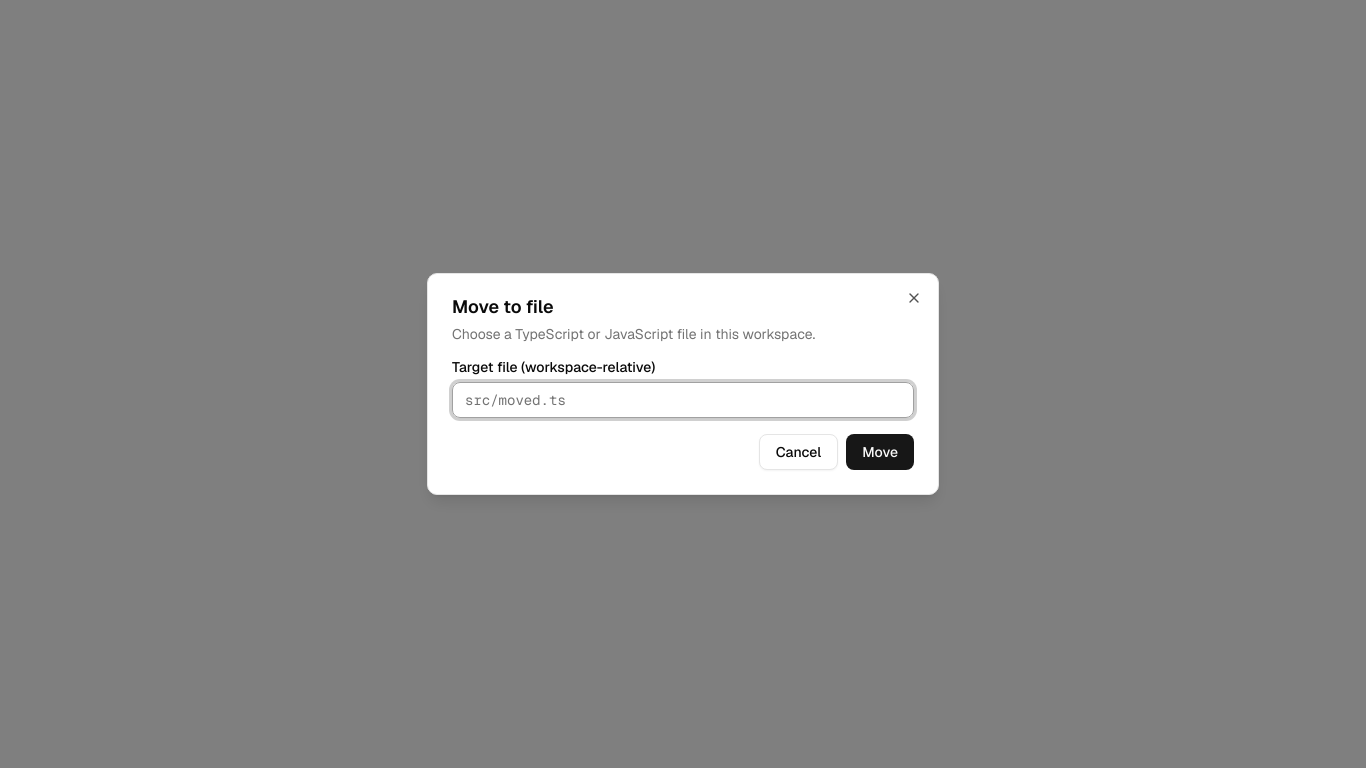
Test case: Move to file dialog › rejects target ../other.ts with an accessible validation message
The width and height of the screenshot is (1366, 768).
Type "../other.ts" into the field labelled "Target file (workspace-relative)" at (683,400), box left=452, top=382, right=914, bottom=418
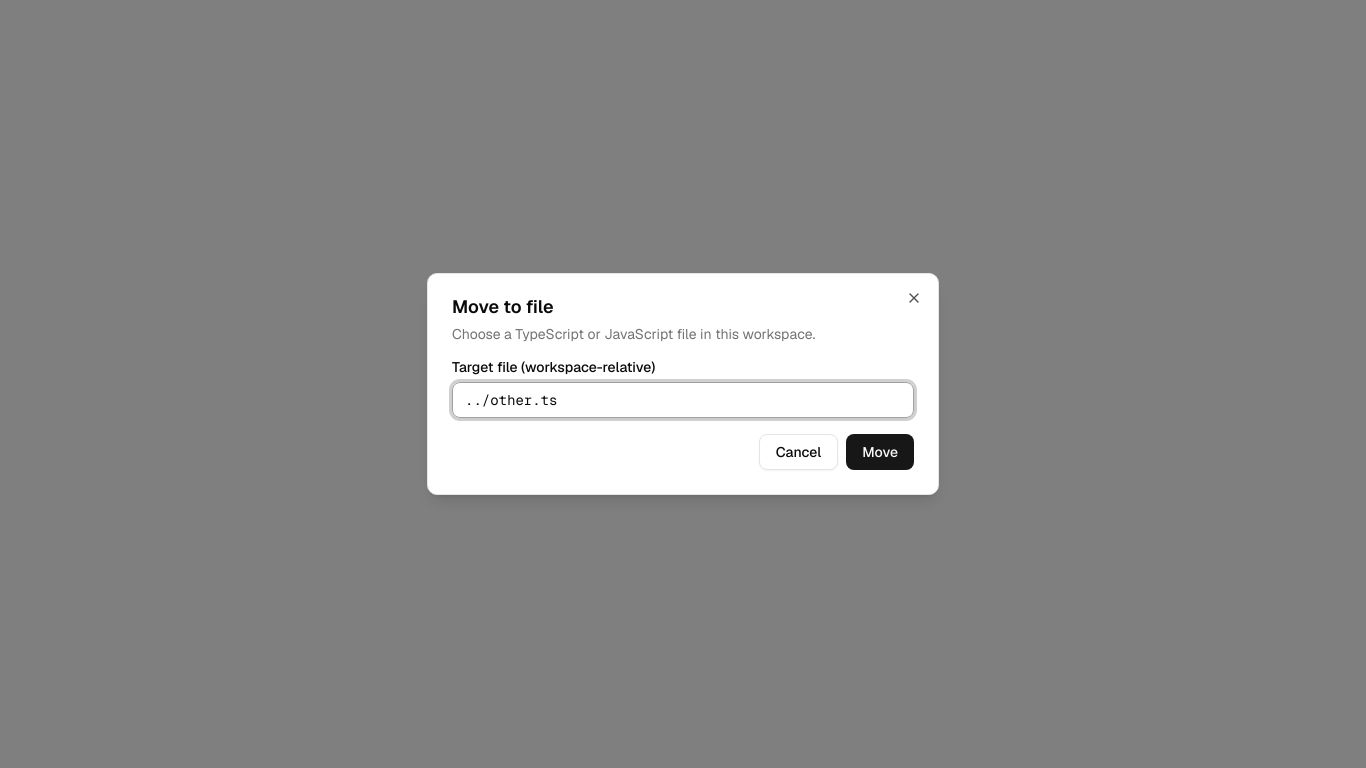
Click the button "Move" at (880,452), box left=846, top=434, right=914, bottom=470
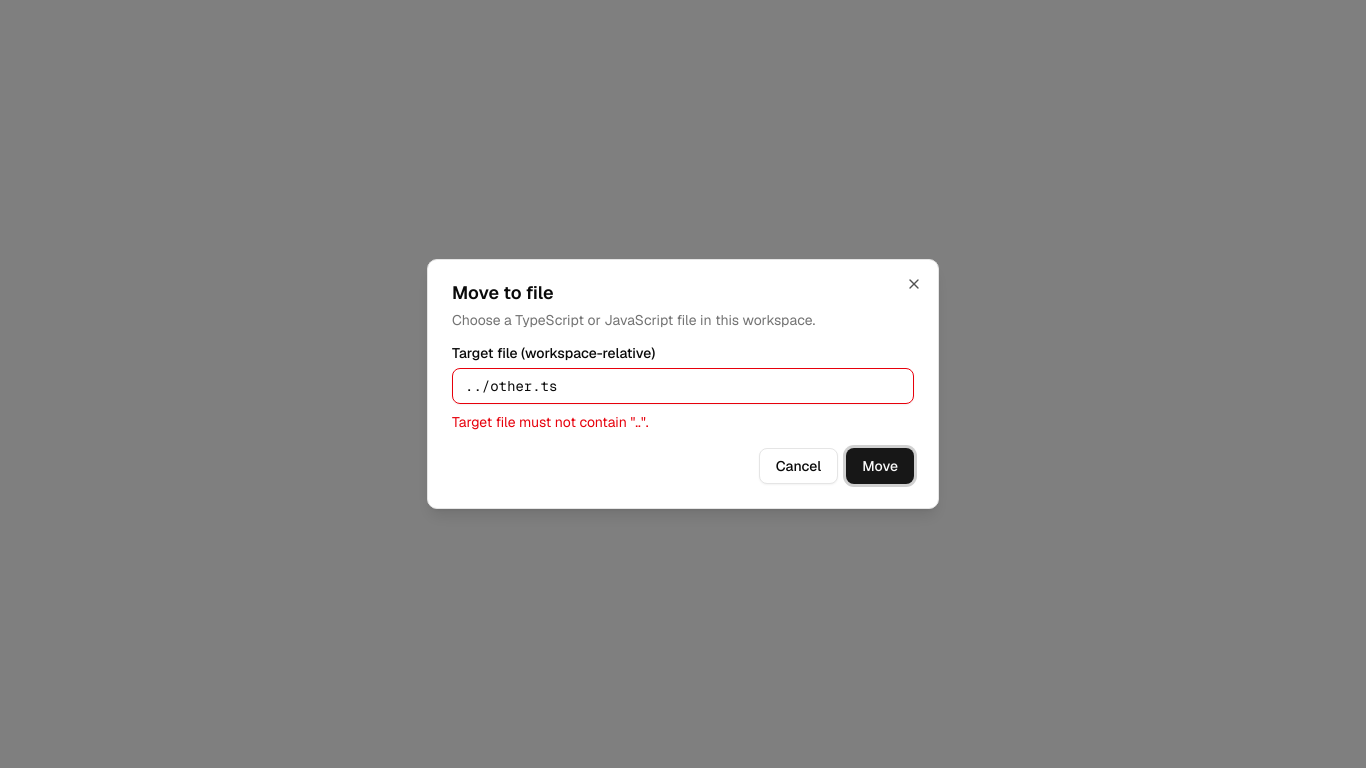
Now the message reads "Target file must not contain \"..\".", box left=452, top=413, right=649, bottom=431
